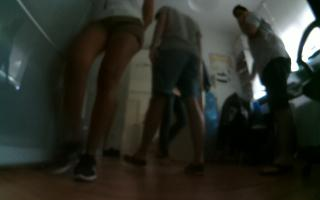person: (48, 1, 154, 186), (123, 5, 210, 175), (231, 4, 302, 180), (157, 58, 211, 169)
